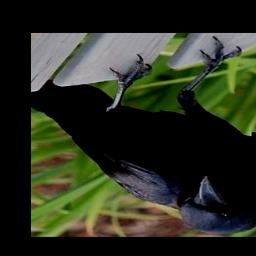Crow: (32, 36, 256, 234)
